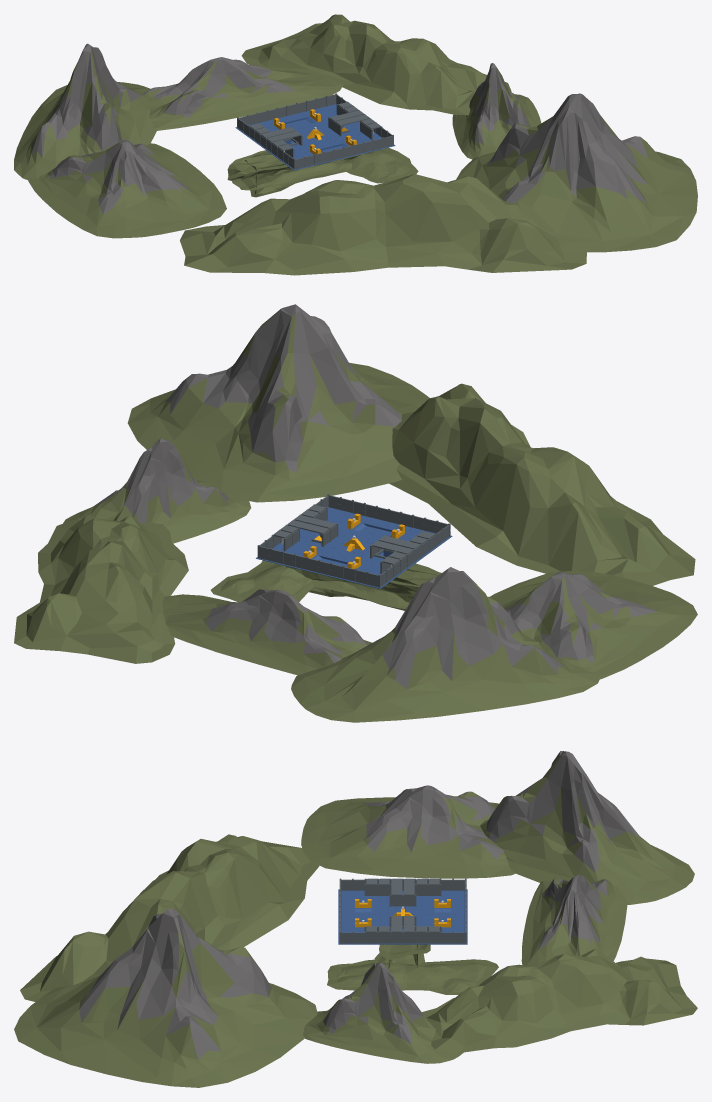
The model's file is level-1-graphic.glb.
The picture shows the model from 3 angles, top to bottom: view 1: azimuth 30°, elevation 25°; view 2: azimuth 150°, elevation 25°; view 3: azimuth 270°, elevation 25°; orthographic projection. The views are drawn at different scales.
Parts seen in each view (by area): view 1: SM_Generic_Mountains_Soft_01.001, SM_Generic_Mountains_Grass_02.004, SM_Generic_Mountains_Grass_02.002, SM_Generic_Mountains_Soft_01, SM_Generic_Mountains_Grass_02, SM_Generic_Mountains_Grass_02.001, SM_Generic_Mountains_Grass_02.003, SM_Generic_Mountains_Soft_01.002, SM_Generic_Mountains_Soft_01.004, SM_Generic_Mountains_Soft_01.005, SM_Generic_Mountains_Soft_01.006; view 2: SM_Generic_Mountains_Grass_02.004, SM_Generic_Mountains_Soft_01.001, SM_Generic_Mountains_Grass_02, SM_Generic_Mountains_Soft_01, SM_Generic_Mountains_Grass_02.002, SM_Generic_Mountains_Grass_02.001, SM_Generic_Mountains_Grass_02.003, SM_Generic_Mountains_Soft_01.002, SM_Generic_Mountains_Soft_01.003, SM_Generic_Mountains_Soft_01.005; view 3: SM_Generic_Mountains_Grass_02.004, SM_Generic_Mountains_Soft_01.001, SM_Generic_Mountains_Soft_01, SM_Generic_Mountains_Grass_02, SM_Generic_Mountains_Grass_02.002, SM_Generic_Mountains_Grass_02.003, SM_Generic_Mountains_Grass_02.001, SM_Generic_Mountains_Soft_01.002, SM_Generic_Mountains_Soft_01.006.
Boxes of the visible parts, x1,y1,x2,y2 form: SM_Generic_Mountains_Soft_01.001: (180, 174, 586, 275); SM_Generic_Mountains_Grass_02.004: (456, 93, 697, 252); SM_Generic_Mountains_Grass_02.002: (28, 139, 226, 238); SM_Generic_Mountains_Soft_01: (241, 14, 511, 115); SM_Generic_Mountains_Grass_02: (14, 43, 156, 180); SM_Generic_Mountains_Grass_02.001: (143, 57, 343, 130); SM_Generic_Mountains_Grass_02.003: (452, 63, 541, 159); SM_Generic_Mountains_Soft_01.002: (346, 147, 418, 183); SM_Generic_Mountains_Soft_01.004: (241, 151, 374, 197); SM_Generic_Mountains_Soft_01.005: (232, 162, 352, 190); SM_Generic_Mountains_Soft_01.006: (231, 150, 288, 172); SM_Generic_Mountains_Grass_02.004: (127, 304, 429, 502); SM_Generic_Mountains_Soft_01.001: (389, 383, 695, 585); SM_Generic_Mountains_Grass_02: (291, 567, 599, 722); SM_Generic_Mountains_Soft_01: (14, 516, 188, 663); SM_Generic_Mountains_Grass_02.002: (489, 570, 697, 679); SM_Generic_Mountains_Grass_02.001: (162, 589, 372, 675); SM_Generic_Mountains_Grass_02.003: (63, 438, 251, 543); SM_Generic_Mountains_Soft_01.002: (210, 560, 313, 602); SM_Generic_Mountains_Soft_01.003: (285, 566, 418, 610); SM_Generic_Mountains_Soft_01.005: (311, 579, 409, 608); SM_Generic_Mountains_Grass_02.004: (14, 908, 317, 1087); SM_Generic_Mountains_Soft_01.001: (20, 834, 319, 1001); SM_Generic_Mountains_Soft_01: (422, 949, 697, 1053); SM_Generic_Mountains_Grass_02: (480, 751, 694, 904); SM_Generic_Mountains_Grass_02.002: (301, 785, 515, 878); SM_Generic_Mountains_Grass_02.003: (303, 963, 463, 1063); SM_Generic_Mountains_Grass_02.001: (521, 874, 627, 966); SM_Generic_Mountains_Soft_01.002: (327, 959, 498, 994); SM_Generic_Mountains_Soft_01.006: (379, 944, 430, 959).
Bounding box in the file's own units: 161 × 35.65 × 164.
4 materials, 4 textured.
